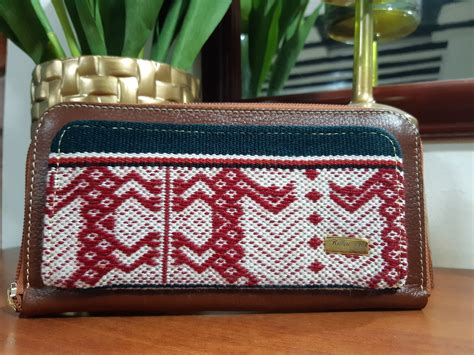cuero: (13, 97, 432, 315)
